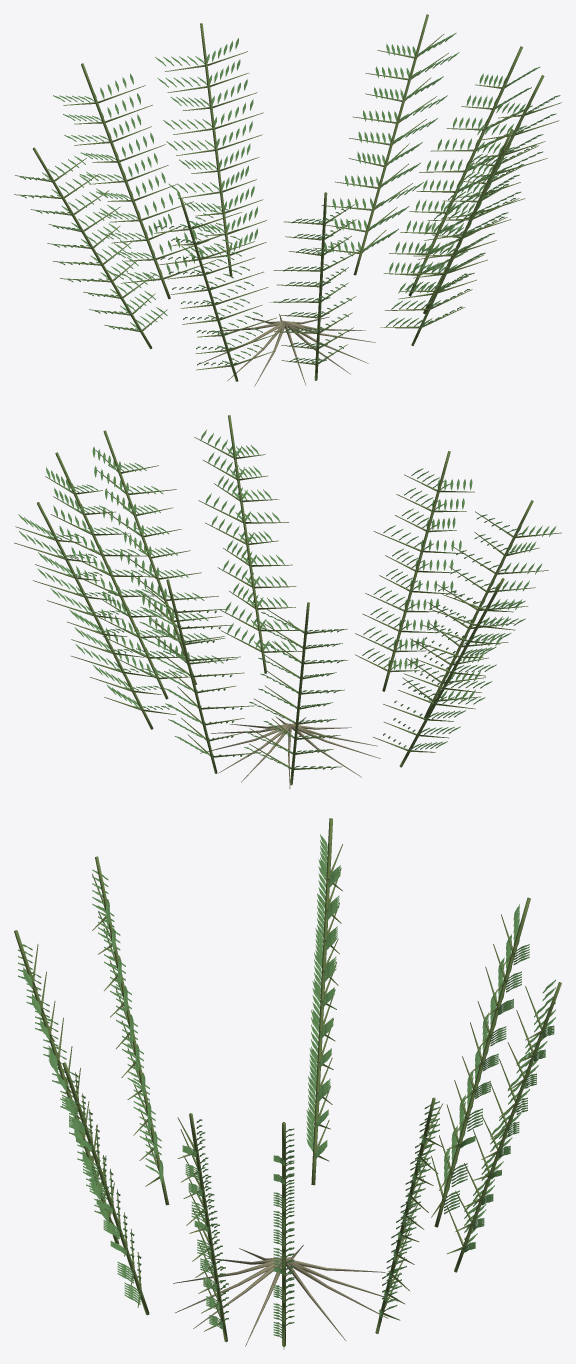
File: javamoss-desktop.glb
3 views of the same model, one above another, from view 1: azimuth 30°, elevation 25°; view 2: azimuth 150°, elevation 25°; view 3: azimuth 270°, elevation 25° (orthographic). The views are drawn at different scales.
Visible parts, largest first — view 1: moss-leaf, moss-branch, moss-axis, anchoring-root; view 2: moss-leaf, moss-branch, moss-axis, anchoring-root; view 3: moss-leaf, moss-axis, moss-branch, anchoring-root.
Part boxes in pixels (<box>): moss-leaf: <box>19,32,560,365</box>; moss-branch: <box>14,34,561,370</box>; moss-axis: <box>33,14,544,381</box>; anchoring-root: <box>200,314,375,386</box>; moss-leaf: <box>18,429,556,769</box>; moss-branch: <box>14,437,561,770</box>; moss-axis: <box>37,415,533,785</box>; anchoring-root: <box>200,716,380,789</box>; moss-leaf: <box>18,834,555,1338</box>; moss-axis: <box>14,818,561,1346</box>; moss-branch: <box>32,844,542,1341</box>; anchoring-root: <box>173,1245,398,1349</box>.
Size of the model in its own units: 0.7595 by 0.3561 by 0.5392.
